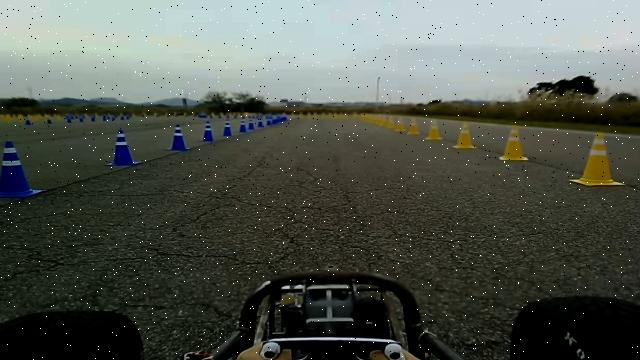blue cone: (0, 140, 47, 198), (104, 129, 142, 166), (165, 123, 190, 151), (201, 122, 214, 142), (222, 120, 232, 136), (238, 118, 248, 132), (257, 121, 264, 128), (248, 122, 254, 130)
yellow cone: (568, 132, 625, 186), (582, 132, 612, 180), (498, 124, 528, 161), (452, 121, 476, 149), (424, 119, 442, 140), (406, 118, 419, 135), (394, 116, 406, 132), (384, 116, 394, 130)
